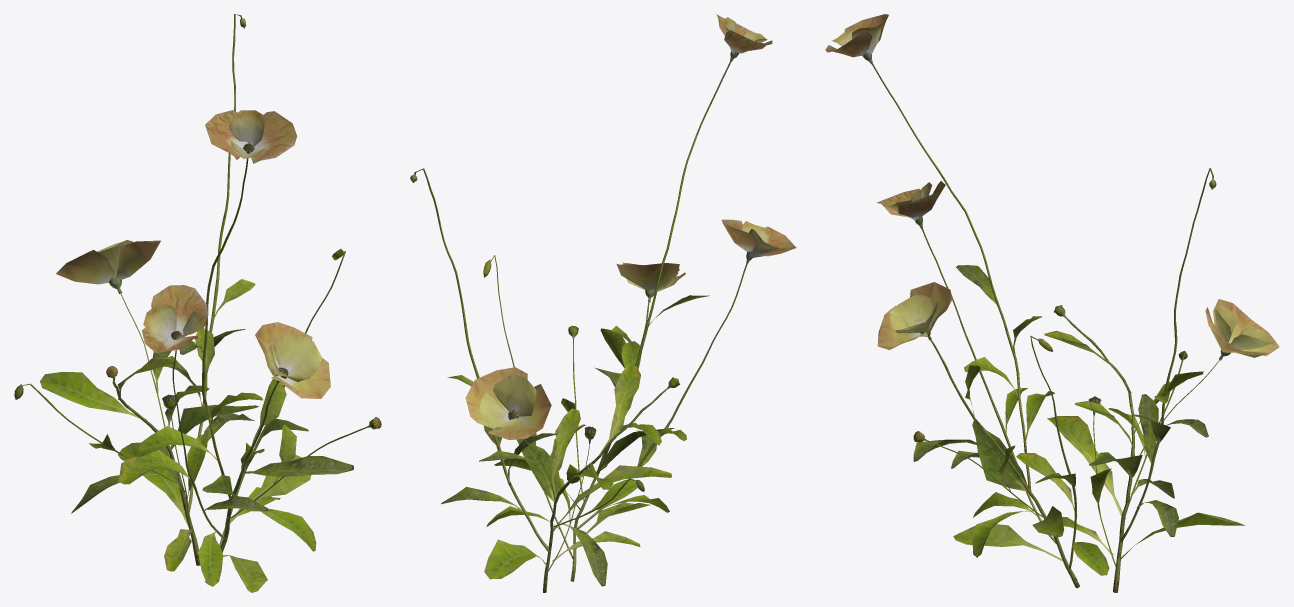
Rendered from Poppy_bush_normal_yellowgreen.glb.
3 views of the same model, side by side, from view 1: azimuth 30°, elevation 25°; view 2: azimuth 150°, elevation 25°; view 3: azimuth 270°, elevation 25° (orthographic). The views are drawn at different scales.
Parts seen in each view (by area): view 1: bushhhh; view 2: bushhhh; view 3: bushhhh.
Part boxes in pixels (<box>): bushhhh: <box>14,14,381,592</box>; bushhhh: <box>410,14,796,592</box>; bushhhh: <box>825,14,1279,592</box>.
Bounding box in the file's own units: 2.3 × 4.57 × 3.53.
1 material, 1 textured.
